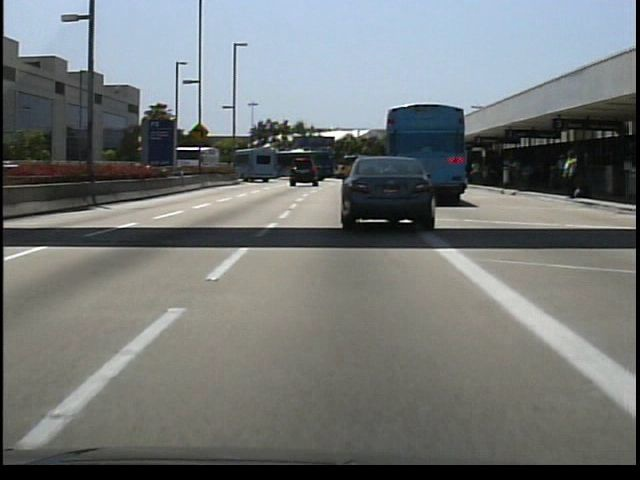person: (558, 149, 582, 201)
